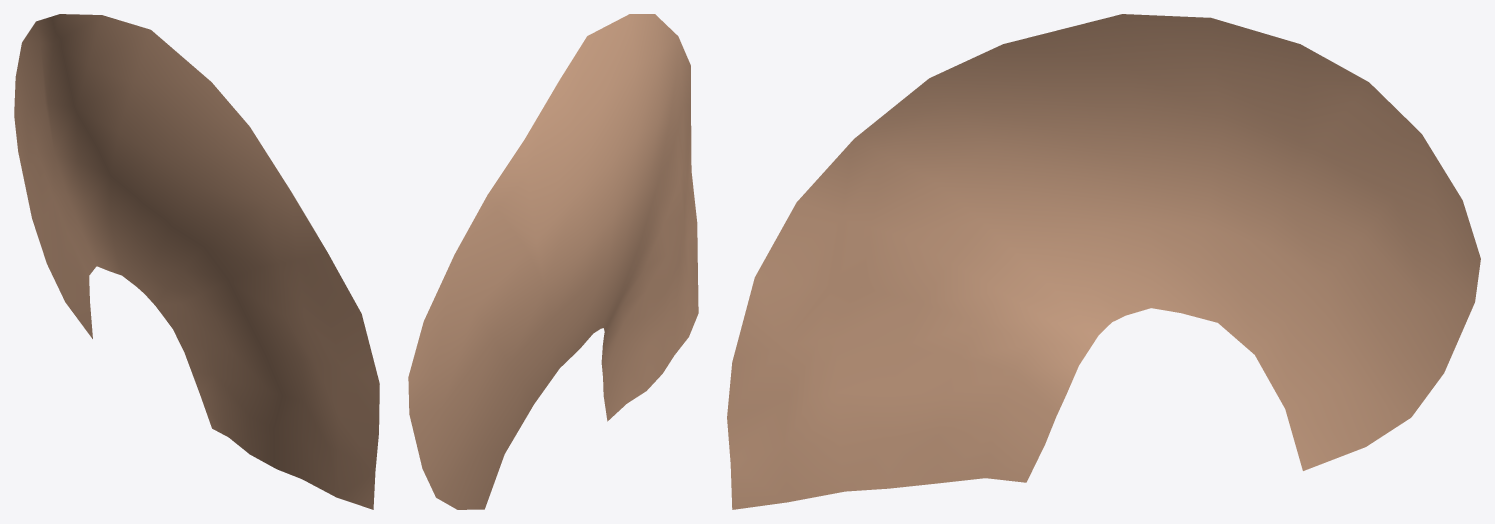
The model's file is temporal-region-r.glb.
3 renders of one model, left to right at view 1: azimuth 30°, elevation 25°; view 2: azimuth 150°, elevation 25°; view 3: azimuth 270°, elevation 25°, orthographic. The views are drawn at different scales.
Parts seen in each view (by area): view 1: Temporal region.r; view 2: Temporal region.r; view 3: Temporal region.r.
Boxes of the visible parts, left/top/right/bottom form: Temporal region.r: left=14, top=14, right=379, bottom=509; Temporal region.r: left=408, top=14, right=698, bottom=509; Temporal region.r: left=727, top=14, right=1480, bottom=509.
Bounding box in the file's own units: 0.0198 × 0.0686 × 0.1019.
